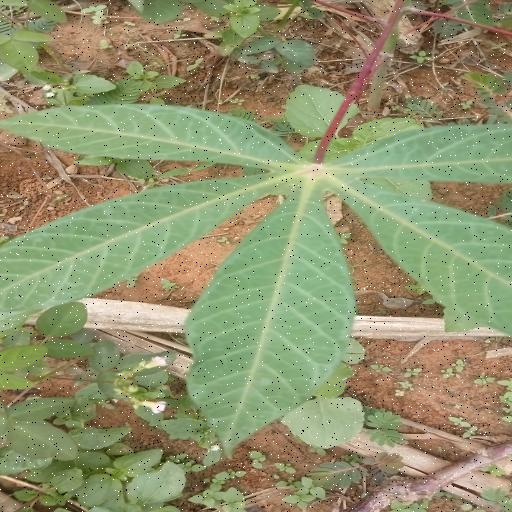Cassava_Healthy: (7, 100, 512, 468)
